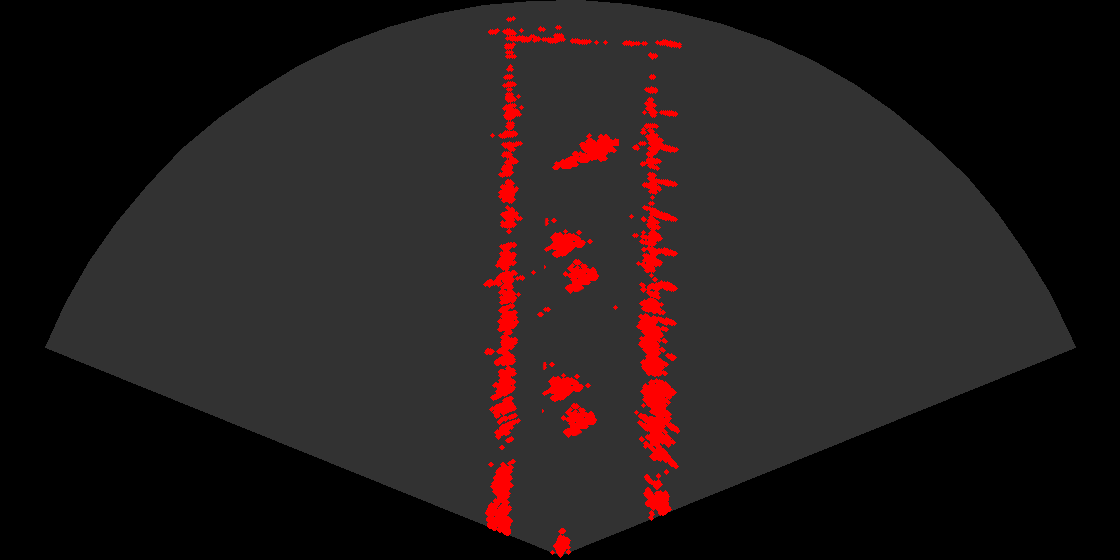cage: (544, 218, 607, 302), (542, 362, 605, 446)
frogman: (551, 127, 619, 174)
